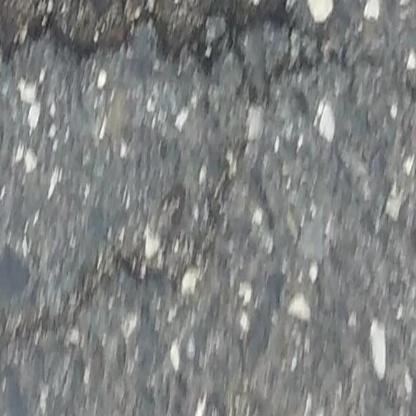Cracks: (0, 0, 304, 75)
